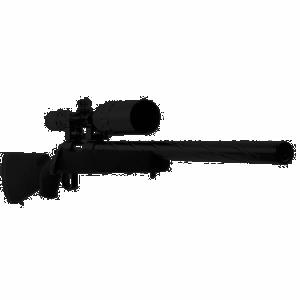sniper: (0, 96, 294, 204)
